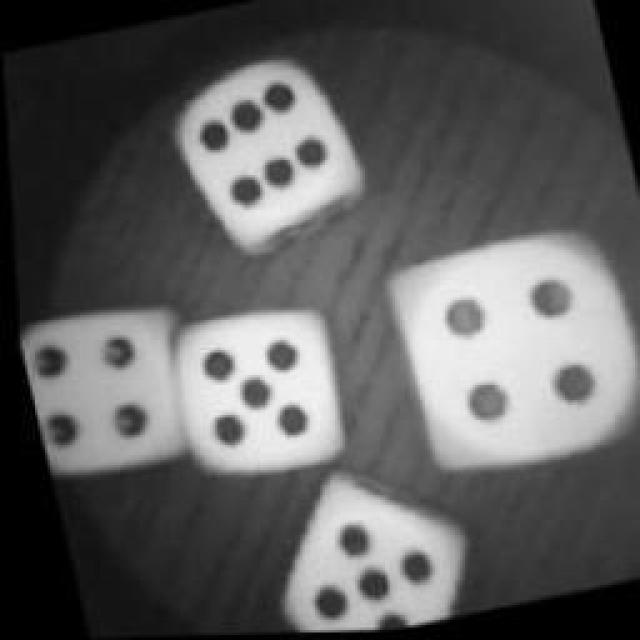dice_4: (362, 204, 640, 496), (14, 276, 201, 496)
dice_5: (152, 281, 366, 499), (249, 453, 469, 635)
dice_6: (155, 40, 385, 260)
